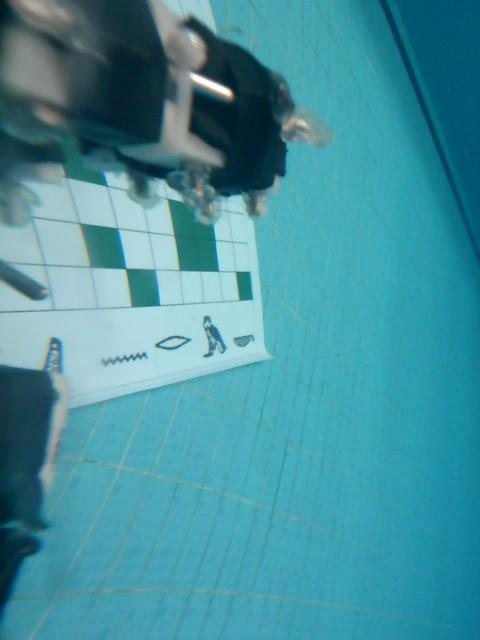Basket: (233, 333, 257, 350)
Mouth: (154, 335, 193, 351)
Owl: (200, 316, 228, 360)
Reed: (42, 337, 65, 381)
Water: (99, 352, 148, 367)
